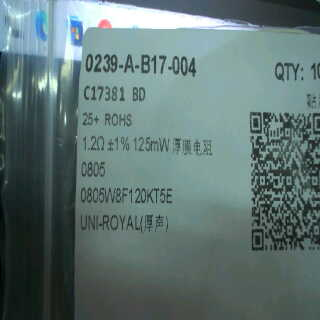1.2R: (76, 133, 105, 184)
